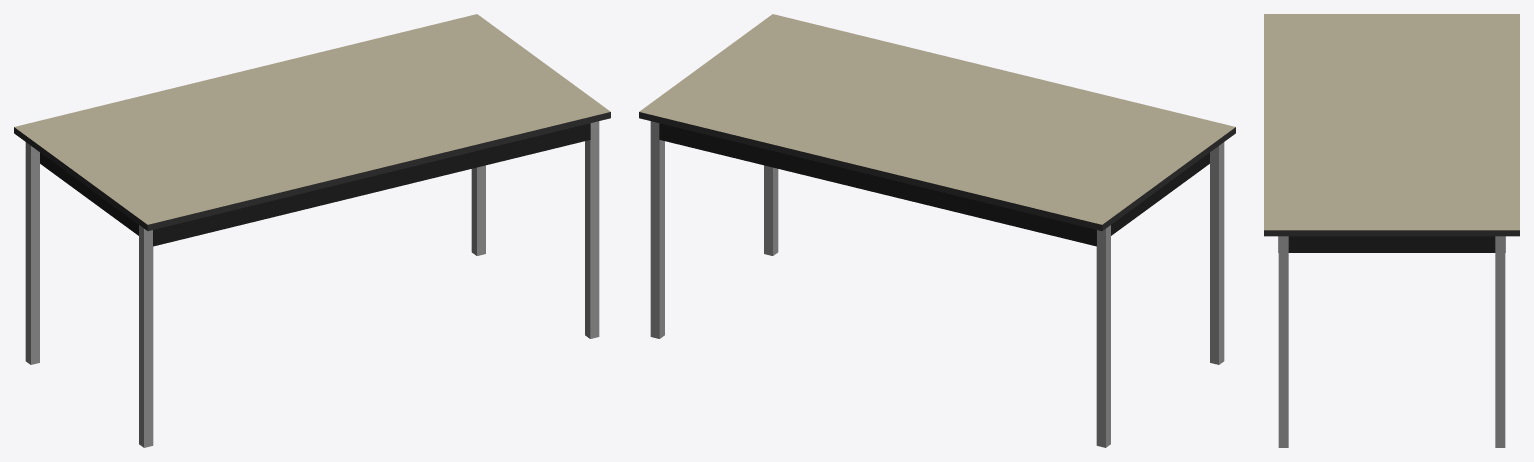
Rendered from HeavyTable-Tan.fbx.
The picture shows the model from 3 angles, left to right: view 1: azimuth 30°, elevation 25°; view 2: azimuth 150°, elevation 25°; view 3: azimuth 270°, elevation 25°; orthographic projection. The views are drawn at different scales.
Visible parts, largest first — view 1: TableTop, Legs, TableBase; view 2: TableTop, Legs, TableBase; view 3: TableTop, Legs, TableBase.
Part boxes in pixels (x1,y1,x2,y2): TableTop: [14, 14, 610, 230]; Legs: [25, 121, 599, 447]; TableBase: [40, 123, 590, 246]; TableTop: [639, 14, 1235, 230]; Legs: [650, 121, 1224, 447]; TableBase: [659, 123, 1209, 246]; TableTop: [1264, 14, 1519, 236]; Legs: [1278, 236, 1505, 447]; TableBase: [1278, 236, 1505, 252].
Bounding box in the file's own units: 1.52 × 0.72 × 0.76.
